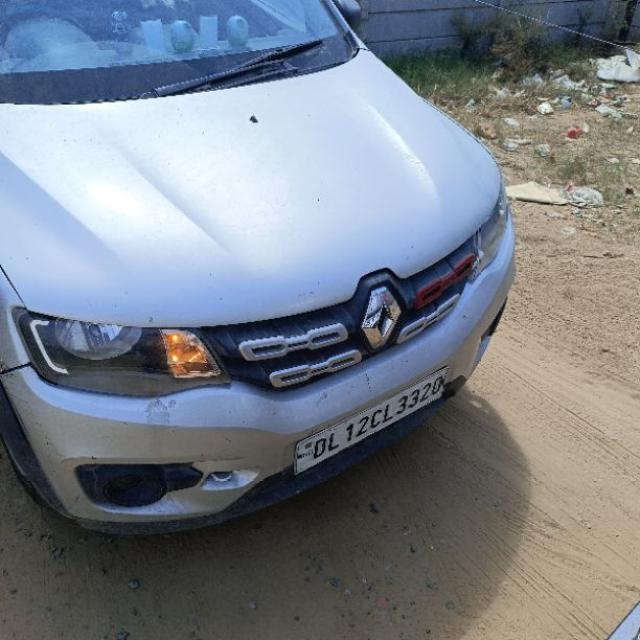license_plate: (292, 365, 448, 477)
